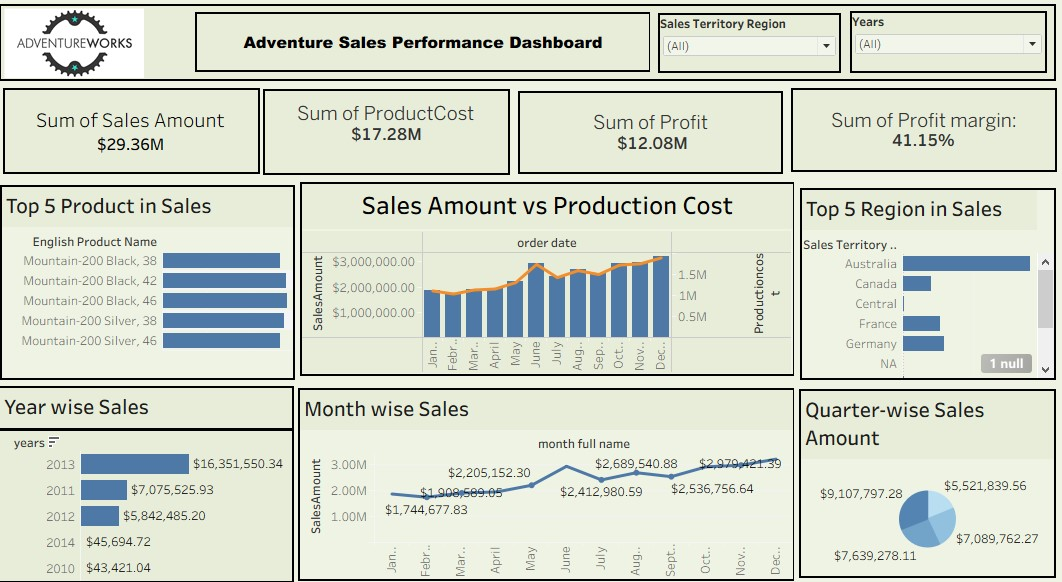

Layout of this report page (visuals, bound fields, positions):
{"tool":"tableau","page":{"name":"Sales Performance Dashboard","canvas":[1000,1000],"units":"permille","ordinal":0},"visuals":[{"type":"dashboard-object","box":[0,0,1000,1000]},{"type":"legend","title":"Q11","param":"[federated.1kmoz4y0xrsc3t0zw5q7v0ks139k].[:Measure Names]","box":[5.1,16.9,911.5,81.1]},{"type":"image","param":"Image/112.jpg","box":[7.7,20.3,165.1,118.2]},{"type":"filter","title":"Year wise Sales","param":"[federated.1kmoz4y0xrsc3t0zw5q7v0ks139k].[none:Calculation_1268051584520200:nk]","box":[740.3,25.3,170.2,104.7]},{"type":"text","box":[172.8,27,394.7,101.4]},{"type":"filter","title":"Region Sales Performance","param":"[federated.1kmoz4y0xrsc3t0zw5q7v0ks139k].[none:SalesTerritoryRegion:nk]","box":[574.4,28.7,158.2,101.4]},{"type":"worksheet","title":"Sum of sales amount","mark":"Automatic","box":[6.9,155.4,222.7,145.3]},{"type":"worksheet","title":"Sum of profit margin","mark":"Automatic","box":[688.8,155.4,230.6,141.9]},{"type":"worksheet","title":"Sum of produtcost ","mark":"Automatic","box":[232.1,157.1,213.4,145.3]},{"type":"worksheet","title":"Summ of porfit","mark":"Automatic","box":[453,160.5,229.1,140.2]},{"type":"legend","title":"Region Sales Performance","param":"[federated.1kmoz4y0xrsc3t0zw5q7v0ks139k].[none:SalesTerritoryRegion:nk]","box":[831.6,168.9,142,113.2]},{"type":"worksheet","title":"Q11","mark":"Automatic","rows":["SalesAmount","Calculation_1268051560079365"],"cols":["Calculation_1583061561524224"],"box":[264,314.2,428.2,327.7]},{"type":"worksheet","title":"Product Sales Performance","mark":"Automatic","rows":["EnglishProductName"],"cols":["SalesAmount"],"box":[4.3,319.3,255.4,329.4]},{"type":"worksheet","title":"Region Sales Performance","mark":"Automatic","rows":["SalesTerritoryRegion"],"cols":["Calculation_1583061566418955"],"box":[697.3,324.3,221.8,324.3]},{"type":"worksheet","title":"Year wise Sales","mark":"Automatic","rows":["Calculation_1268051584520200"],"cols":["SalesAmount"],"box":[2.6,658.8,256.3,332.8]},{"type":"worksheet","title":"Month wise Sales","mark":"Line","rows":["SalesAmount"],"cols":["Calculation_1583061562724355"],"box":[262.2,662.2,429.9,326]},{"type":"worksheet","title":"Q10","mark":"Pie","box":[696.5,663.9,222.7,319.3]}]}

Visuals, with their boxes on the dashboard's canvas, which has no fixed pixel size, in thousandths of its width and height (x1, y1, x2, y2). These are canvas units, not pixel positions in the 1062x582 screenshot, which may show the page scaled, cropped or inside an application window:
dashboard-object: pyautogui.locateOnScreen(0, 0, 1000, 1000)
"Q11" legend: pyautogui.locateOnScreen(5, 17, 917, 98)
image: pyautogui.locateOnScreen(8, 20, 173, 138)
"Year wise Sales" filter: pyautogui.locateOnScreen(740, 25, 910, 130)
text: pyautogui.locateOnScreen(173, 27, 568, 128)
"Region Sales Performance" filter: pyautogui.locateOnScreen(574, 29, 733, 130)
"Sum of sales amount" worksheet: pyautogui.locateOnScreen(7, 155, 230, 301)
"Sum of profit margin" worksheet: pyautogui.locateOnScreen(689, 155, 919, 297)
"Sum of produtcost " worksheet: pyautogui.locateOnScreen(232, 157, 446, 302)
"Summ of porfit" worksheet: pyautogui.locateOnScreen(453, 160, 682, 301)
"Region Sales Performance" legend: pyautogui.locateOnScreen(832, 169, 974, 282)
"Q11" worksheet: pyautogui.locateOnScreen(264, 314, 692, 642)
"Product Sales Performance" worksheet: pyautogui.locateOnScreen(4, 319, 260, 649)
"Region Sales Performance" worksheet: pyautogui.locateOnScreen(697, 324, 919, 649)
"Year wise Sales" worksheet: pyautogui.locateOnScreen(3, 659, 259, 992)
"Month wise Sales" worksheet (Line marks): pyautogui.locateOnScreen(262, 662, 692, 988)
"Q10" worksheet (Pie marks): pyautogui.locateOnScreen(696, 664, 919, 983)
